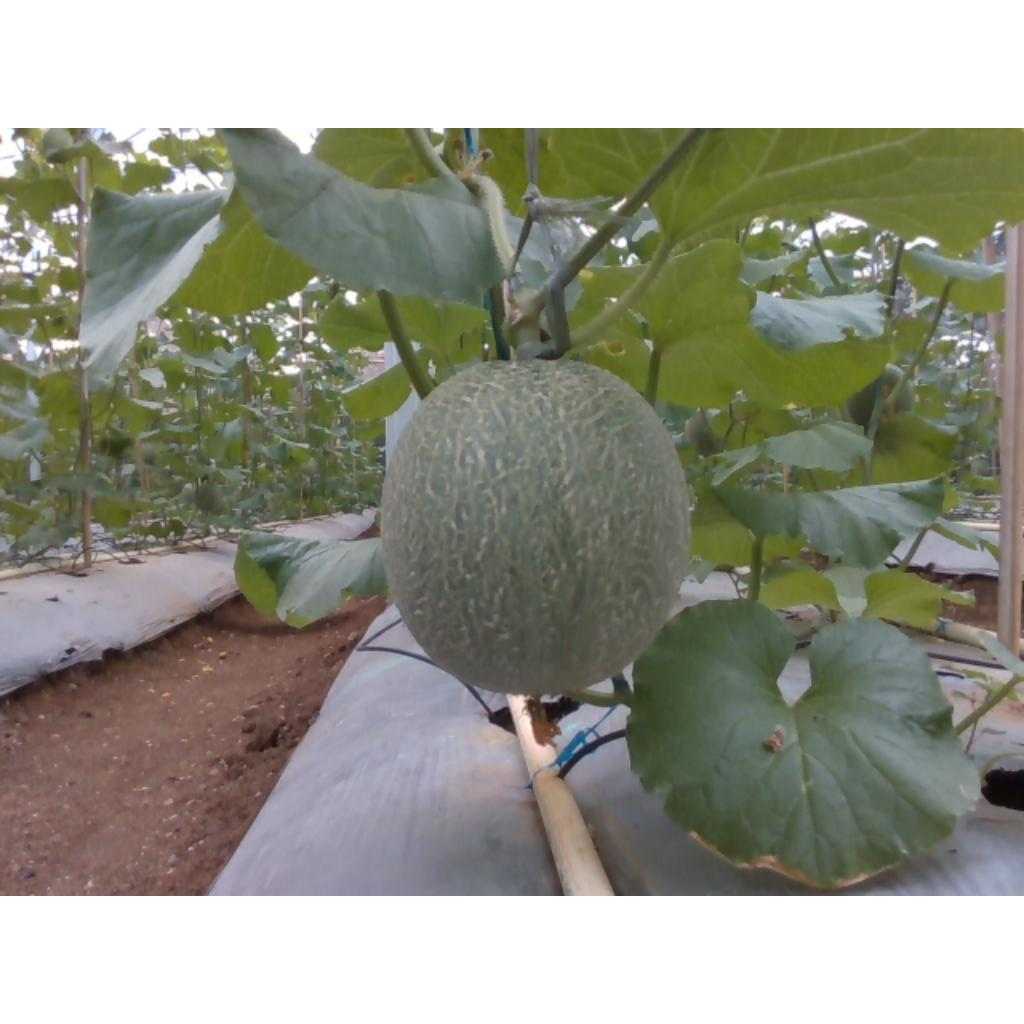melon: (382, 360, 690, 695)
